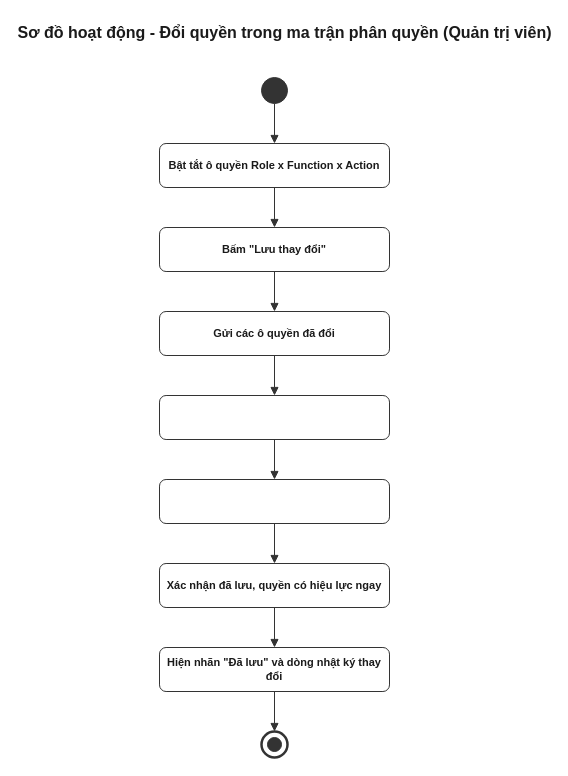
The diagram is 568 pixels wide and 776 high, and some of its shapes have lost their labels. The box of each missing label's shape, as (x1, y1, x2, y2) in pixels:
Ghi ma trận quyền mới: (158, 394, 390, 440)
Ghi Nhật ký hệ thống: (158, 478, 390, 524)
